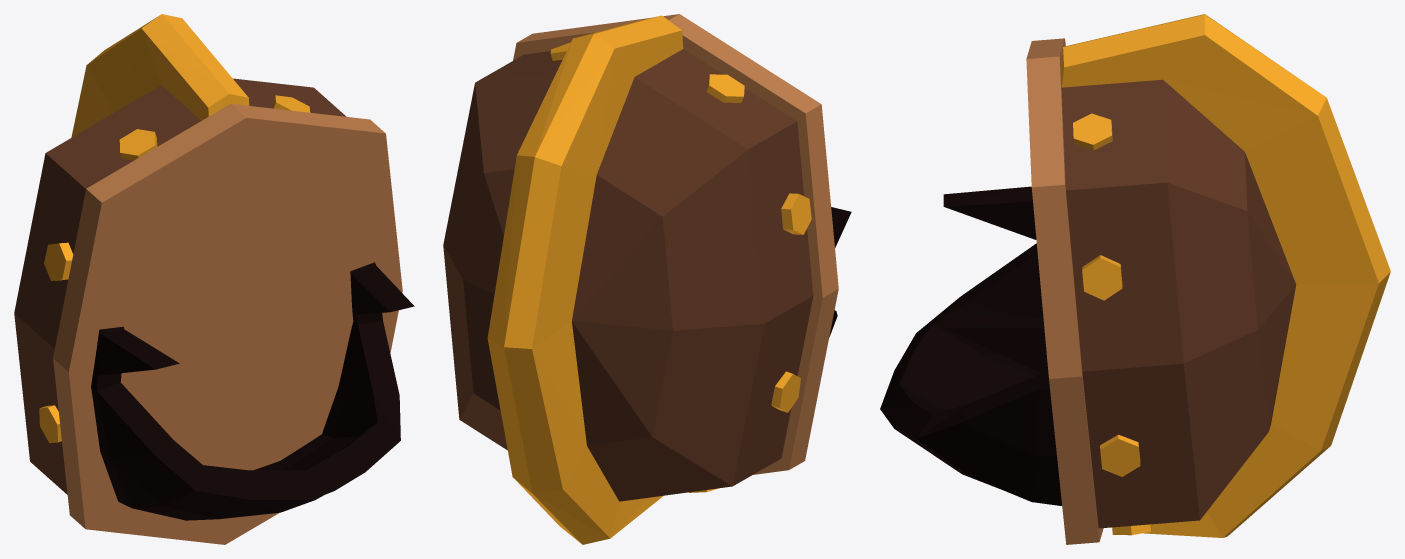
The model's file is Helmet 02.FBX.
The picture shows the model from 3 angles, left to right: view 1: azimuth 30°, elevation 25°; view 2: azimuth 150°, elevation 25°; view 3: azimuth 270°, elevation 25°; orthographic projection. The views are drawn at different scales.
Visible parts, largest first — view 1: Helmet 02, Hair Headgear; view 2: Helmet 02, Hair Headgear; view 3: Helmet 02, Hair Headgear.
Part boxes in pixels (x1,y1,x2,y2): Helmet 02: [14, 14, 402, 544]; Hair Headgear: [91, 262, 414, 520]; Helmet 02: [443, 14, 838, 544]; Hair Headgear: [829, 207, 851, 336]; Helmet 02: [1026, 14, 1390, 544]; Hair Headgear: [880, 186, 1061, 505].
Size of the model in its own units: 31.17 by 44.06 by 39.09.
2 materials, 1 textured.
